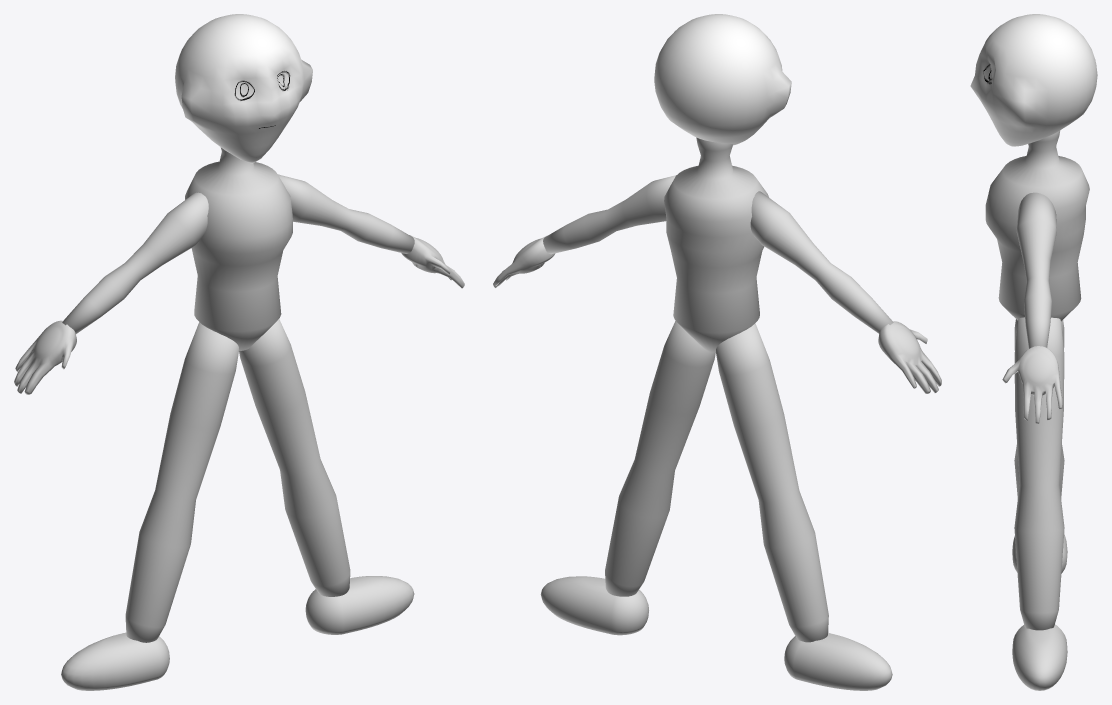
File: CharacterModel.fbx
3 renders of one model, left to right at view 1: azimuth 30°, elevation 25°; view 2: azimuth 150°, elevation 25°; view 3: azimuth 270°, elevation 25°, orthographic. The views are drawn at different scales.
Parts seen in each view (by area): view 1: Cylinder.001, Cylinder, Sphere.001, Cylinder.002, Cylinder.003, Sphere.004, Sphere.003, Cylinder.004, Sphere.002, Sphere; view 2: Cylinder, Cylinder.001, Sphere.001, Cylinder.002, Cylinder.003, Sphere.004, Sphere.003, Cylinder.004, Sphere.002, Sphere; view 3: Sphere.001, Cylinder.002, Cylinder, Cylinder.004, Sphere.003, Sphere, Cylinder.001, Sphere.004.
Part boxes in pixels (<box>): Cylinder.001: <box>125,322,239,642</box>; Cylinder: <box>185,147,292,350</box>; Sphere.001: <box>175,14,312,163</box>; Cylinder.002: <box>239,319,350,596</box>; Cylinder.003: <box>62,192,208,333</box>; Sphere.004: <box>61,632,169,690</box>; Sphere.003: <box>305,576,414,634</box>; Cylinder.004: <box>278,174,414,253</box>; Sphere.002: <box>14,320,76,394</box>; Sphere: <box>401,235,464,288</box>; Cylinder: <box>664,137,768,352</box>; Cylinder.001: <box>716,323,828,642</box>; Sphere.001: <box>654,14,791,145</box>; Cylinder.002: <box>605,320,715,596</box>; Cylinder.003: <box>750,191,893,333</box>; Sphere.004: <box>784,633,892,690</box>; Sphere.003: <box>540,576,648,635</box>; Cylinder.004: <box>543,175,676,254</box>; Sphere.002: <box>878,321,941,393</box>; Sphere: <box>493,236,555,287</box>; Sphere.001: <box>970,14,1097,146</box>; Cylinder.002: <box>1014,317,1064,630</box>; Cylinder: <box>985,130,1089,321</box>; Cylinder.004: <box>1016,192,1056,348</box>; Sphere.003: <box>1012,624,1067,690</box>; Sphere: <box>1002,346,1062,423</box>; Cylinder.001: <box>1014,319,1064,498</box>; Sphere.004: <box>1012,534,1067,573</box>.
Bounding box in the file's own units: 929 × 1263 × 244.
Materials: 1 (1 with a texture image).
